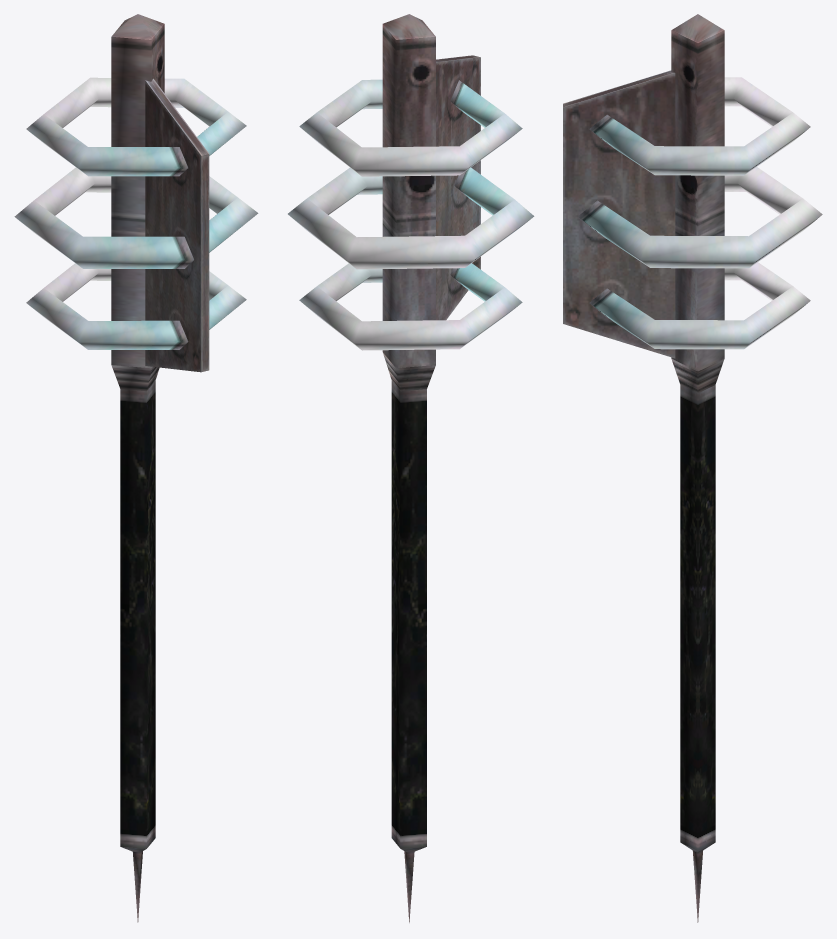
Rendered from frn_all_lamp_free_s1_l1.fbx.
3 views of the same model, side by side, from view 1: azimuth 30°, elevation 25°; view 2: azimuth 150°, elevation 25°; view 3: azimuth 270°, elevation 25° (orthographic).
Parts seen in each view (by area): view 1: mesh_node; view 2: mesh_node; view 3: mesh_node.
Boxes of the visible parts, left/top/right/bottom form: mesh_node: left=14, top=14, right=258, bottom=922; mesh_node: left=288, top=14, right=534, bottom=922; mesh_node: left=563, top=14, right=822, bottom=922.
Bounding box in the file's own units: 0.3451 × 1.6 × 0.4135.
Materials: 1 (1 with a texture image).
